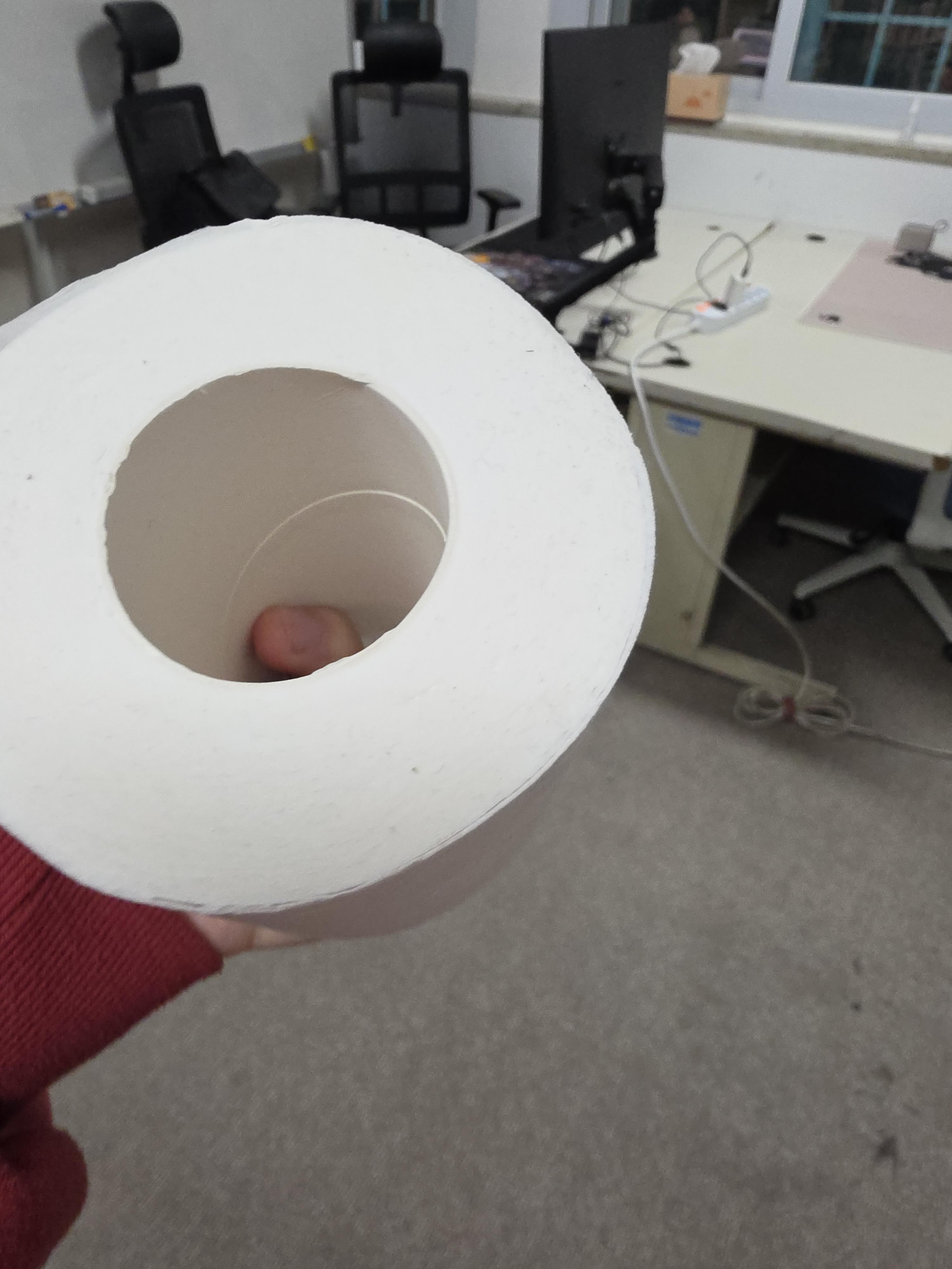tissue: (0, 214, 656, 941), (666, 41, 730, 123)
